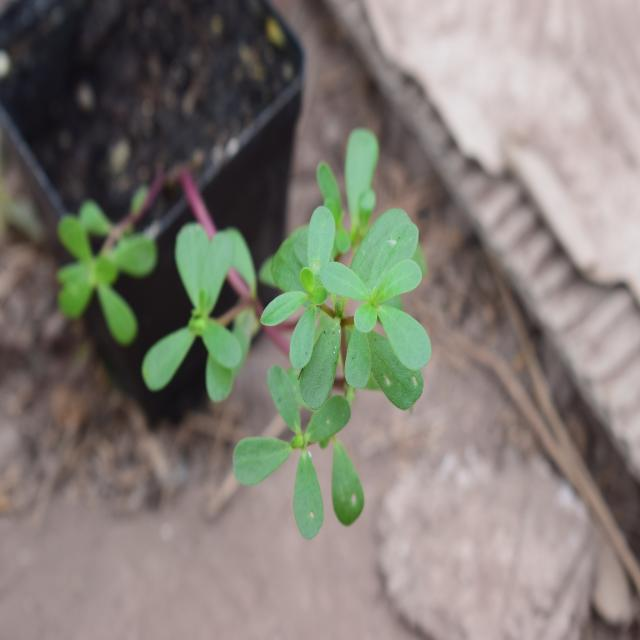purslane: (65, 134, 472, 558)
